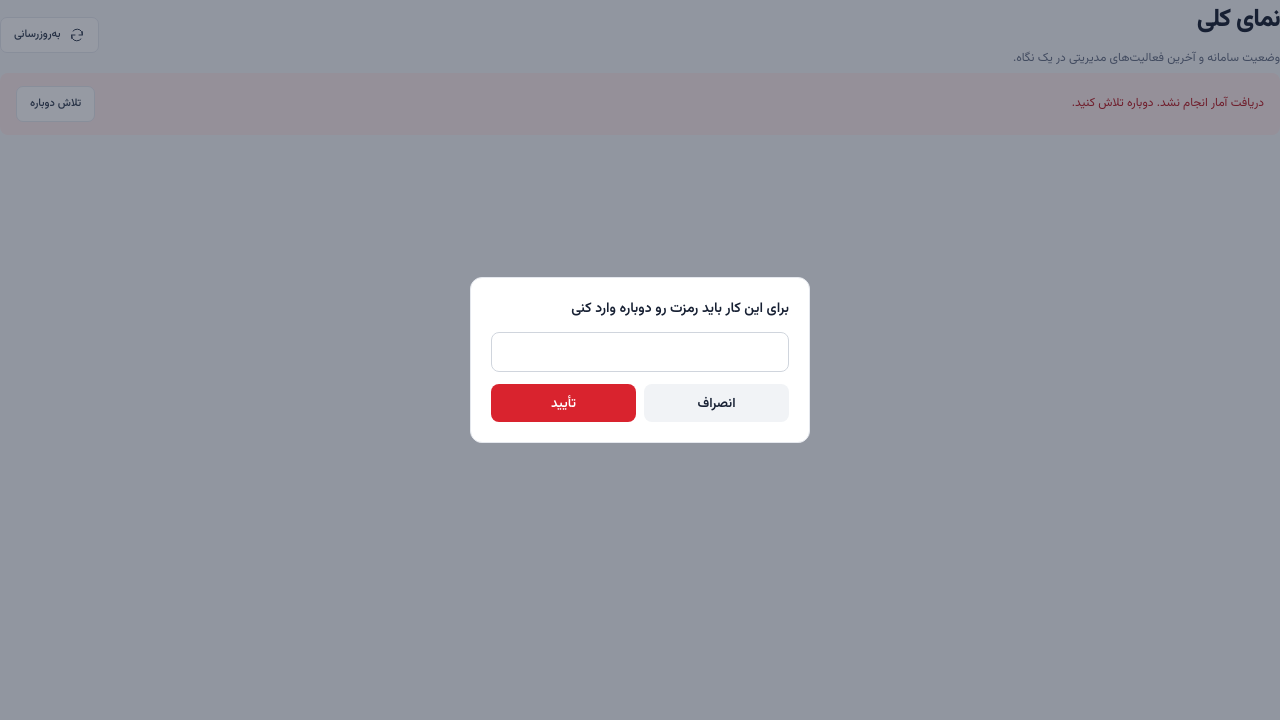
Test: reauthentication reports malformed server responses
The width and height of the screenshot is (1280, 720).
Expected: the dialog is shown, x1=470 y1=277 x2=810 y2=443
Step 1. Type "password" into the password field → (640, 352), box x1=491 y1=332 x2=789 y2=372
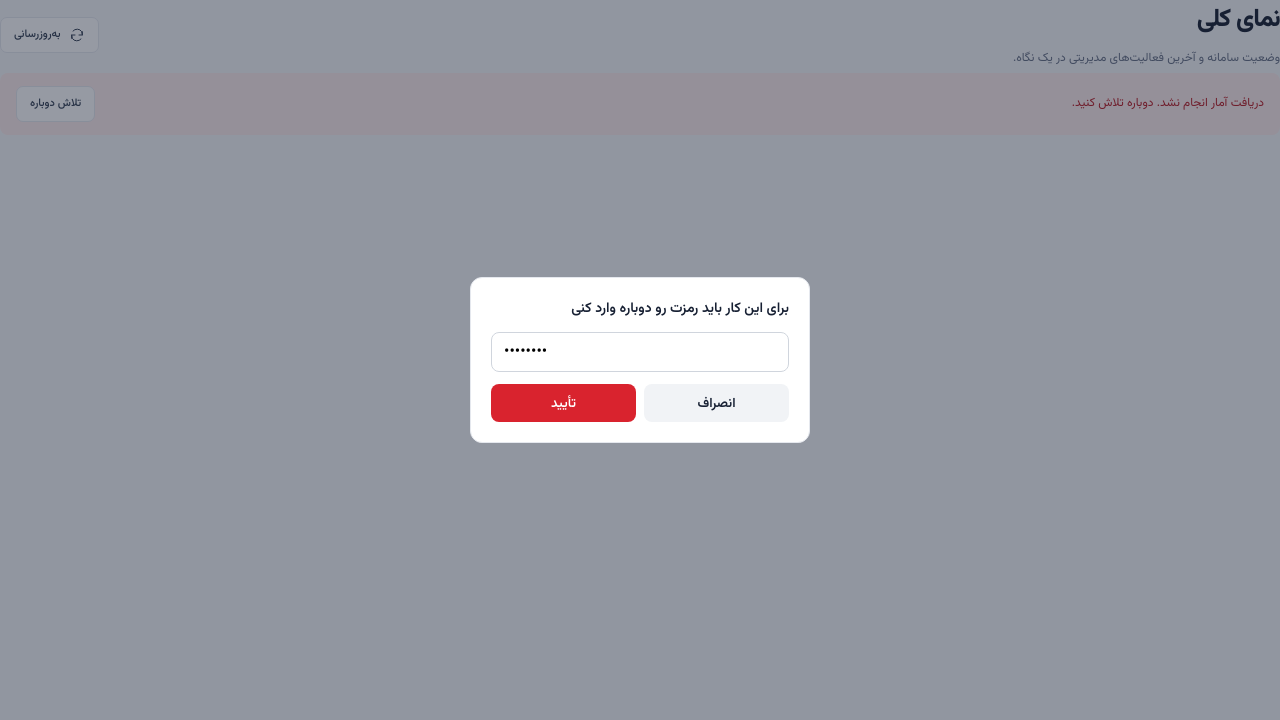
Step 2. Submit the form, box x1=491 y1=298 x2=789 y2=422
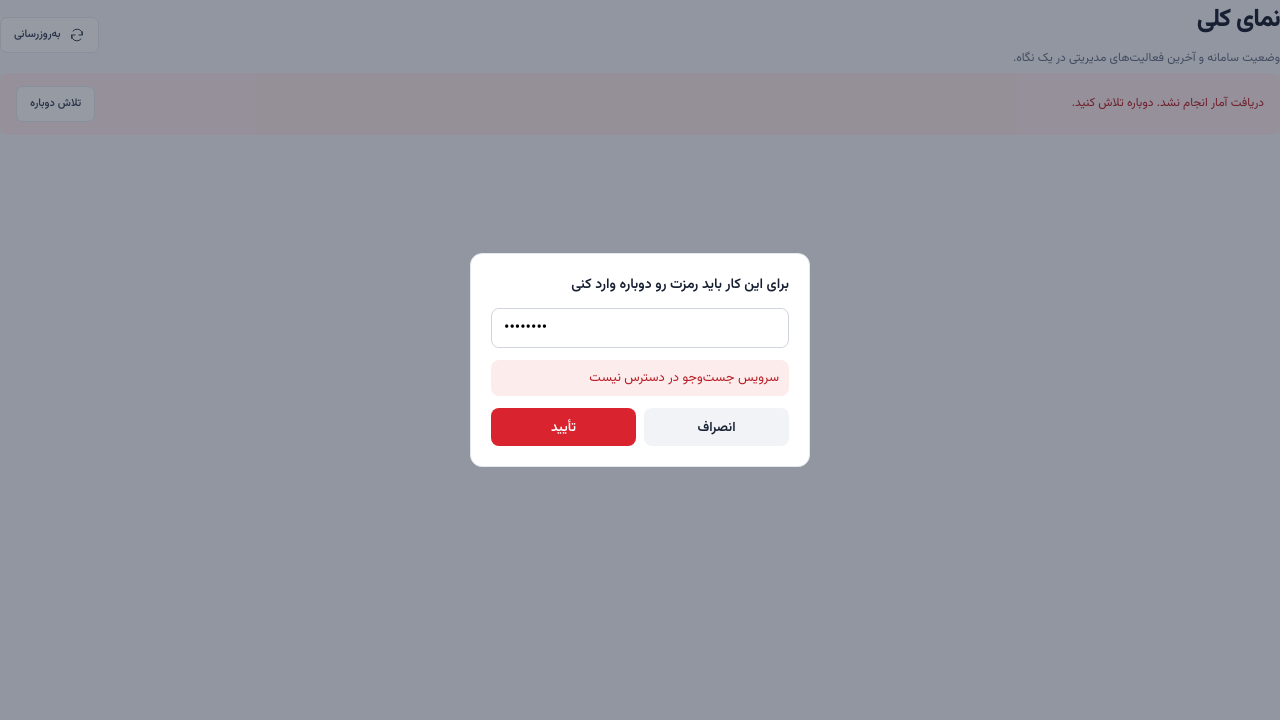
Result: the text "سرویس جست‌وجو در دسترس نیست" is shown at x1=491 y1=360 x2=789 y2=396
